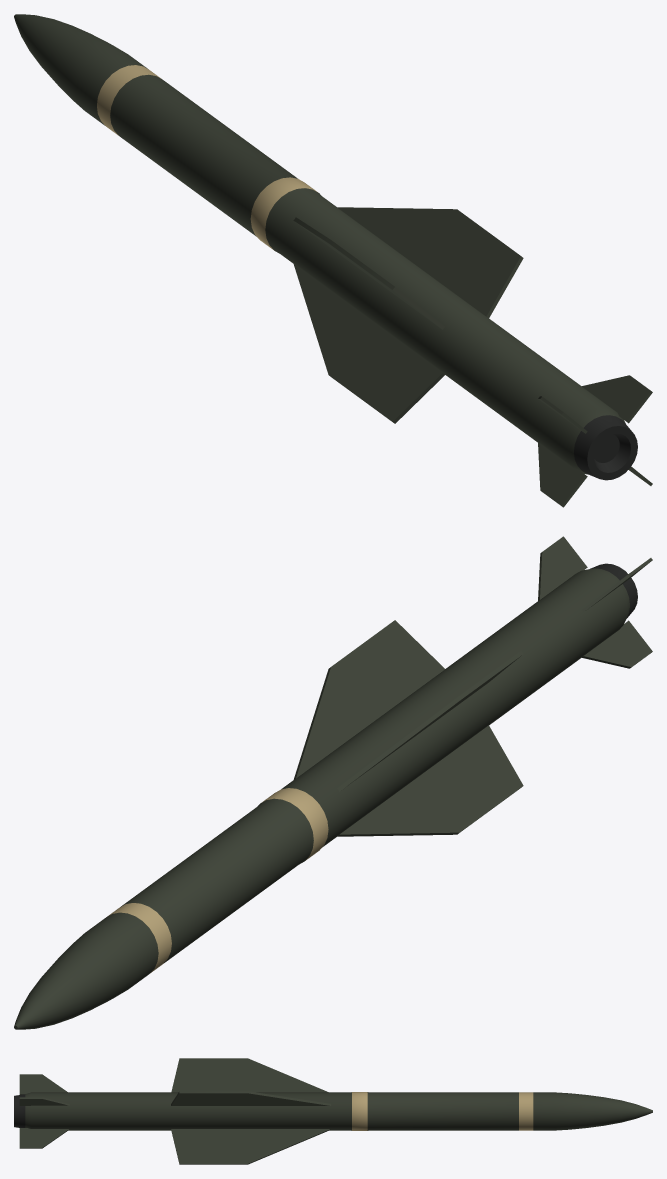
Rendered from msl_rapier.glb.
The picture shows the model from 3 angles, top to bottom: view 1: azimuth 30°, elevation 25°; view 2: azimuth 150°, elevation 25°; view 3: azimuth 270°, elevation 25°; orthographic projection. The views are drawn at different scales.
Parts seen in each view (by area): view 1: body|RPM_body, body|RPM_dark, body|RPM_band; view 2: body|RPM_body, body|RPM_band; view 3: body|RPM_body, body|RPM_band, body|RPM_dark.
Boxes of the visible parts, <box> form: body|RPM_body: <box>14,14,652,507</box>; body|RPM_dark: <box>574,415,637,480</box>; body|RPM_band: <box>97,65,317,250</box>; body|RPM_body: <box>14,536,652,1029</box>; body|RPM_band: <box>107,788,328,973</box>; body|RPM_body: <box>19,1058,652,1164</box>; body|RPM_band: <box>352,1092,533,1130</box>; body|RPM_dark: <box>14,1094,25,1127</box>.
Bounding box in the file's own units: 0.2843 × 0.2843 × 2.24.
